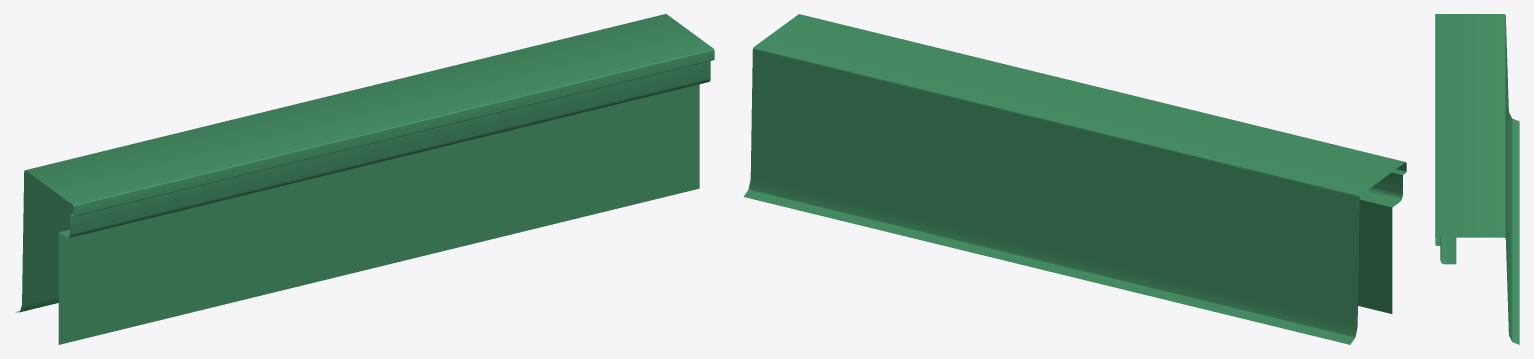
Rendered from GS_Ext_Roof_Trim.fbx.
The picture shows the model from 3 angles, left to right: view 1: azimuth 30°, elevation 25°; view 2: azimuth 150°, elevation 25°; view 3: azimuth 270°, elevation 25°; orthographic projection. The views are drawn at different scales.
Parts seen in each view (by area): view 1: GS_Ext_Roof_Trim; view 2: GS_Ext_Roof_Trim; view 3: GS_Ext_Roof_Trim.
Boxes of the visible parts, x1=… form: GS_Ext_Roof_Trim: x1=16, y1=14, x2=714, y2=344; GS_Ext_Roof_Trim: x1=743, y1=14, x2=1406, y2=344; GS_Ext_Roof_Trim: x1=1435, y1=14, x2=1519, y2=344.
Bounding box in the file's own units: 250 × 56 × 40.
